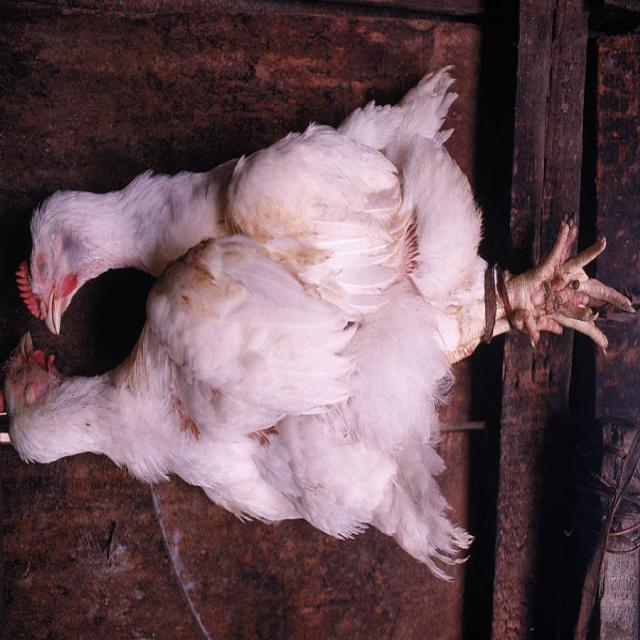Unhealthy: (4, 131, 349, 538)
